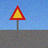sign: (9, 5, 26, 38)
